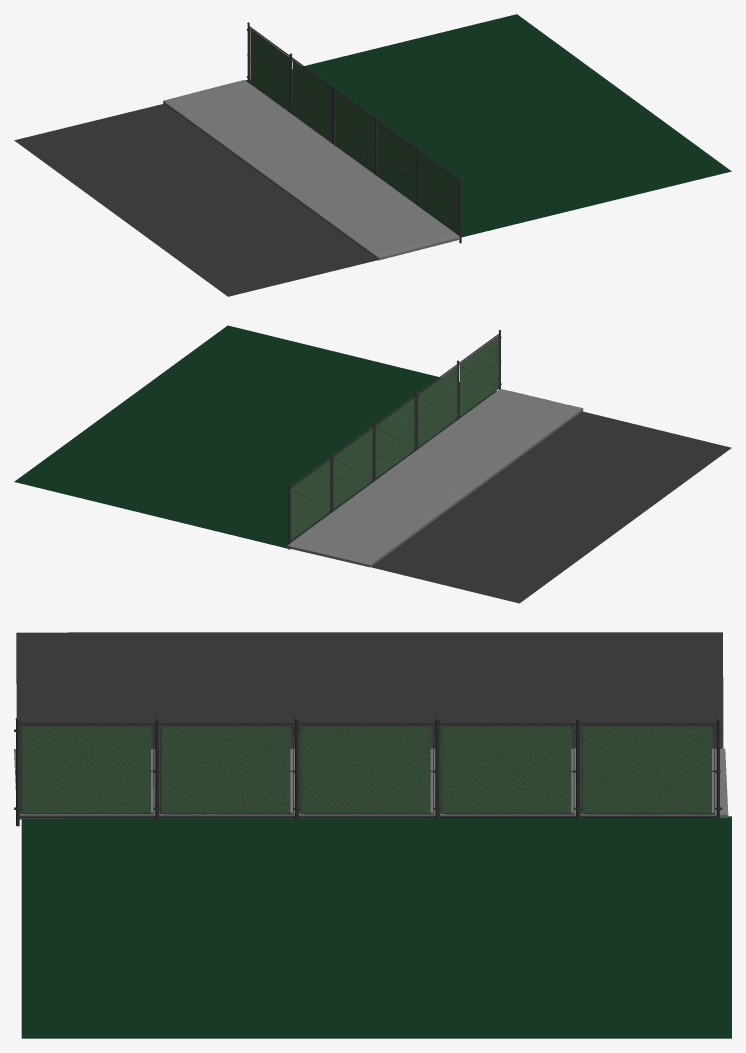
File: ambientecompleto.obj
3 renders of one model, top to bottom at view 1: azimuth 30°, elevation 25°; view 2: azimuth 150°, elevation 25°; view 3: azimuth 270°, elevation 25°, orthographic. The views are drawn at different scales.
Visible parts, largest first — view 1: Plano.3, Plano.14, Slab_7, Body.fence01a_reference.smd.mesh_1, Body.fence01a_reference.smd.mesh_1_2, Body.fence01a_reference.smd.mesh_1_3, Body.fence01a_reference.smd.mesh_1_4, Body.fence01a_reference.smd.mesh_1_1, Body.fence01a_reference.smd.mesh_0_2, Body.fence01a_reference.smd.mesh_0_3, Body.fence01a_reference.smd.mesh_0, Body.fence01a_reference.smd.mesh_0_1 (+1 smaller); view 2: Plano.3, Plano.14, Slab_7, Body.fence01a_reference.smd.mesh_1_2, Body.fence01a_reference.smd.mesh_1_1, Body.fence01a_reference.smd.mesh_1, Body.fence01a_reference.smd.mesh_1_3, Body.fence01a_reference.smd.mesh_1_4, Body.fence01a_reference.smd.mesh_0, Body.fence01a_reference.smd.mesh_0_4, Body.fence01a_reference.smd.mesh_0_2, Body.fence01a_reference.smd.mesh_0_1 (+1 smaller); view 3: Plano.3, Plano.14, Body.fence01a_reference.smd.mesh_1_1, Body.fence01a_reference.smd.mesh_1_2, Body.fence01a_reference.smd.mesh_1, Body.fence01a_reference.smd.mesh_1_3, Body.fence01a_reference.smd.mesh_1_4, Slab_7, Body.fence01a_reference.smd.mesh_0_4, Body.fence01a_reference.smd.mesh_0, Body.fence01a_reference.smd.mesh_0_1, Body.fence01a_reference.smd.mesh_0_2 (+1 smaller).
Part boxes in pixels (x1,y1,x2,y2): Plano.3: (245, 14, 731, 237); Plano.14: (14, 104, 377, 296); Slab_7: (163, 80, 459, 260); Body.fence01a_reference.smd.mesh_1: (250, 29, 289, 109); Body.fence01a_reference.smd.mesh_1_2: (335, 92, 374, 171); Body.fence01a_reference.smd.mesh_1_3: (378, 123, 416, 203); Body.fence01a_reference.smd.mesh_1_4: (420, 153, 458, 233); Body.fence01a_reference.smd.mesh_1_1: (293, 60, 331, 140); Body.fence01a_reference.smd.mesh_0_2: (332, 84, 377, 174); Body.fence01a_reference.smd.mesh_0_3: (374, 116, 419, 206); Body.fence01a_reference.smd.mesh_0: (246, 22, 292, 112); Body.fence01a_reference.smd.mesh_0_1: (289, 53, 334, 143); Plano.3: (14, 325, 496, 548); Plano.14: (371, 411, 731, 603); Slab_7: (287, 389, 583, 567); Body.fence01a_reference.smd.mesh_1_2: (375, 397, 415, 477); Body.fence01a_reference.smd.mesh_1_1: (333, 428, 372, 508); Body.fence01a_reference.smd.mesh_1: (291, 459, 330, 539); Body.fence01a_reference.smd.mesh_1_3: (418, 366, 457, 446); Body.fence01a_reference.smd.mesh_1_4: (460, 335, 499, 416); Body.fence01a_reference.smd.mesh_0: (287, 453, 332, 549); Body.fence01a_reference.smd.mesh_0_4: (456, 330, 501, 420); Body.fence01a_reference.smd.mesh_0_2: (373, 391, 417, 480); Body.fence01a_reference.smd.mesh_0_1: (330, 422, 375, 511); Plano.3: (21, 816, 731, 1038); Plano.14: (16, 632, 723, 748); Body.fence01a_reference.smd.mesh_1_1: (439, 726, 571, 813); Body.fence01a_reference.smd.mesh_1_2: (299, 726, 430, 813); Body.fence01a_reference.smd.mesh_1: (580, 726, 711, 813); Body.fence01a_reference.smd.mesh_1_3: (159, 726, 290, 813); Body.fence01a_reference.smd.mesh_1_4: (19, 726, 150, 813); Slab_7: (14, 748, 728, 819); Body.fence01a_reference.smd.mesh_0_4: (14, 717, 161, 826); Body.fence01a_reference.smd.mesh_0: (575, 717, 722, 819); Body.fence01a_reference.smd.mesh_0_1: (434, 717, 581, 819); Body.fence01a_reference.smd.mesh_0_2: (293, 717, 440, 819).
Size of the model in its own units: 53.25 by 6.58 by 39.62.
